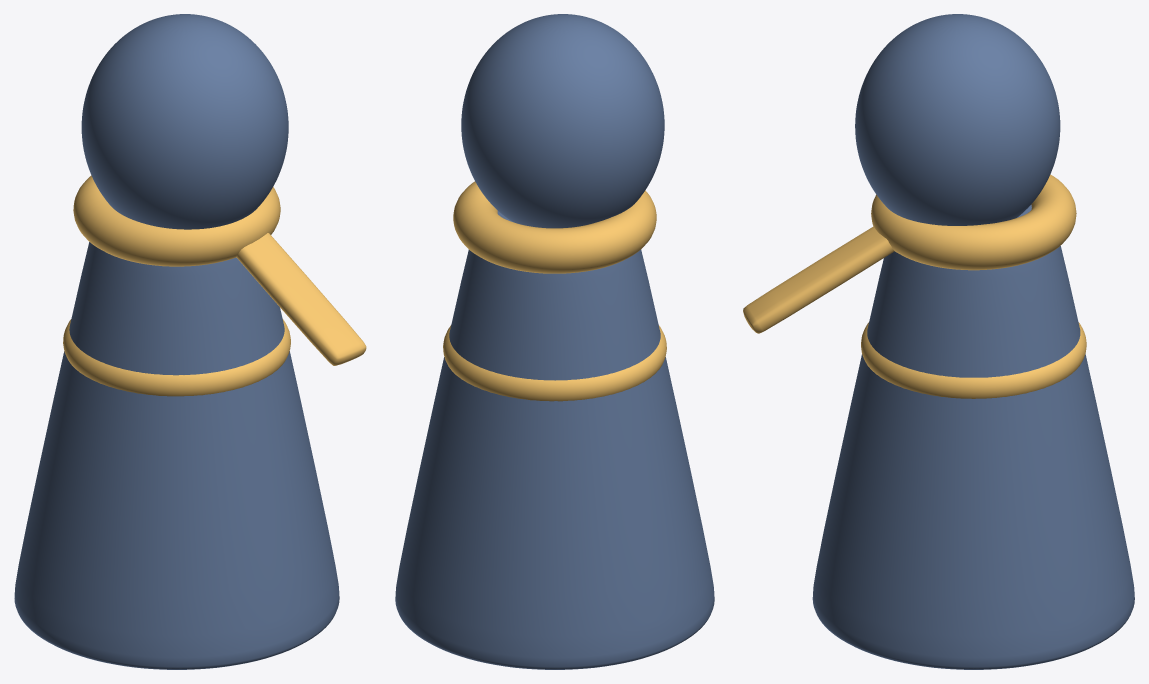
The model's file is spirit_hero.glb.
3 views of the same model, side by side, from view 1: azimuth 30°, elevation 25°; view 2: azimuth 150°, elevation 25°; view 3: azimuth 270°, elevation 25° (orthographic).
Parts seen in each view (by area): view 1: cloak, hood, scarf_ring, scarf_tail, belt; view 2: cloak, hood, scarf_ring, belt; view 3: cloak, hood, scarf_ring, scarf_tail, belt.
Boxes of the visible parts, x1,y1,x2,y2 form: cloak: (14,242,339,669); hood: (81,14,288,229); scarf_ring: (73,175,280,266); scarf_tail: (236,233,366,365); belt: (63,319,290,396); cloak: (395,211,714,669); hood: (461,14,664,228); scarf_ring: (453,181,656,273); belt: (443,325,666,401); cloak: (812,205,1134,669); hood: (855,14,1060,225); scarf_ring: (871,174,1076,270); scarf_tail: (743,226,894,333); belt: (861,322,1086,398).
Size of the model in its own units: 0.8018 by 1.61 by 0.9751.
